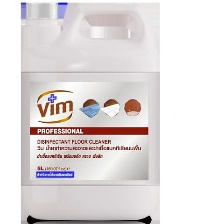cleaning_solution: (18, 0, 161, 222)
